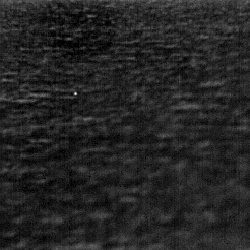dim target: (72, 91, 78, 96)
